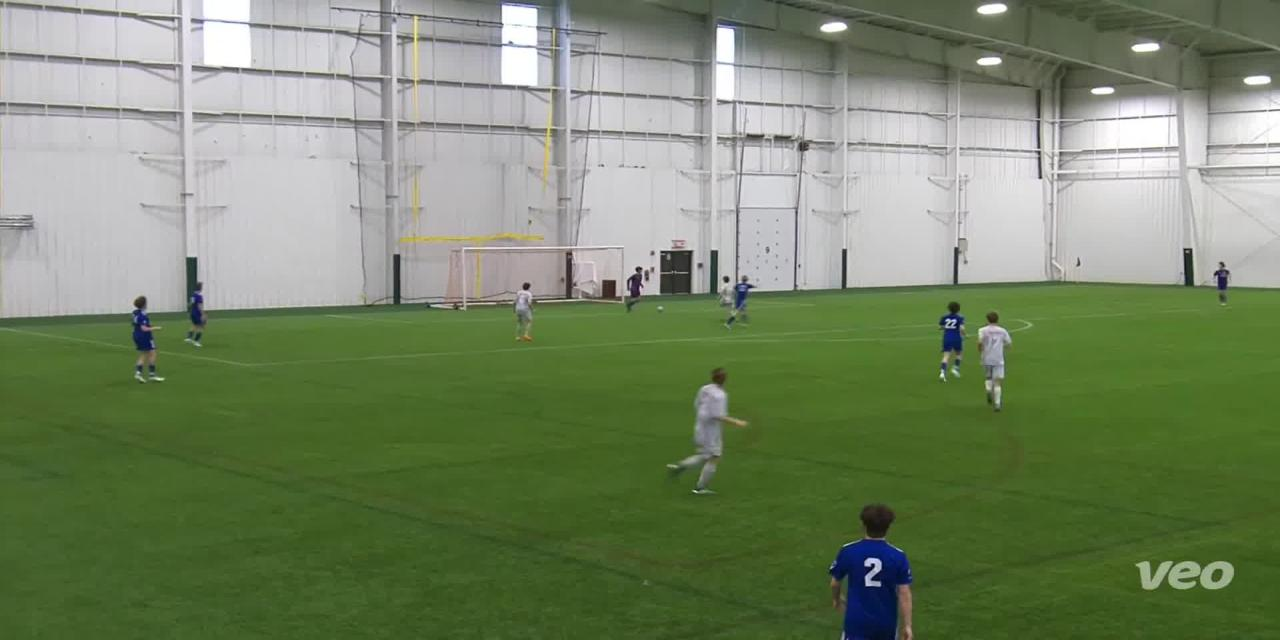goal: (426, 242, 638, 308)
sports ball: (652, 298, 669, 316)
